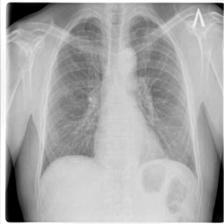tuberculosis: (37, 11, 204, 185)
